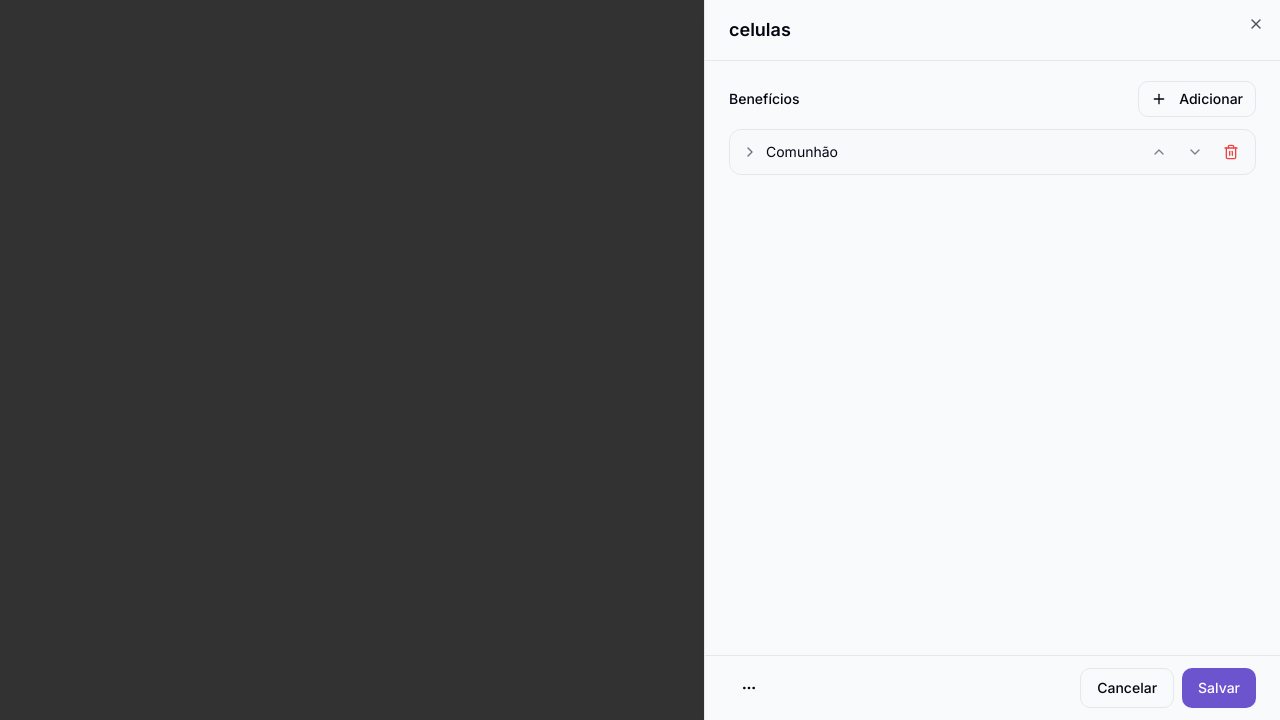
Test: SiteSectionSheet › itens de lista começam recolhidos e abrem ao clicar no título
This screenshot has width=1280, height=720.
expect the field labelled "Título" is not shown: met
Click the button "Comunhão": x=802, y=152 [738,138,1139,166]
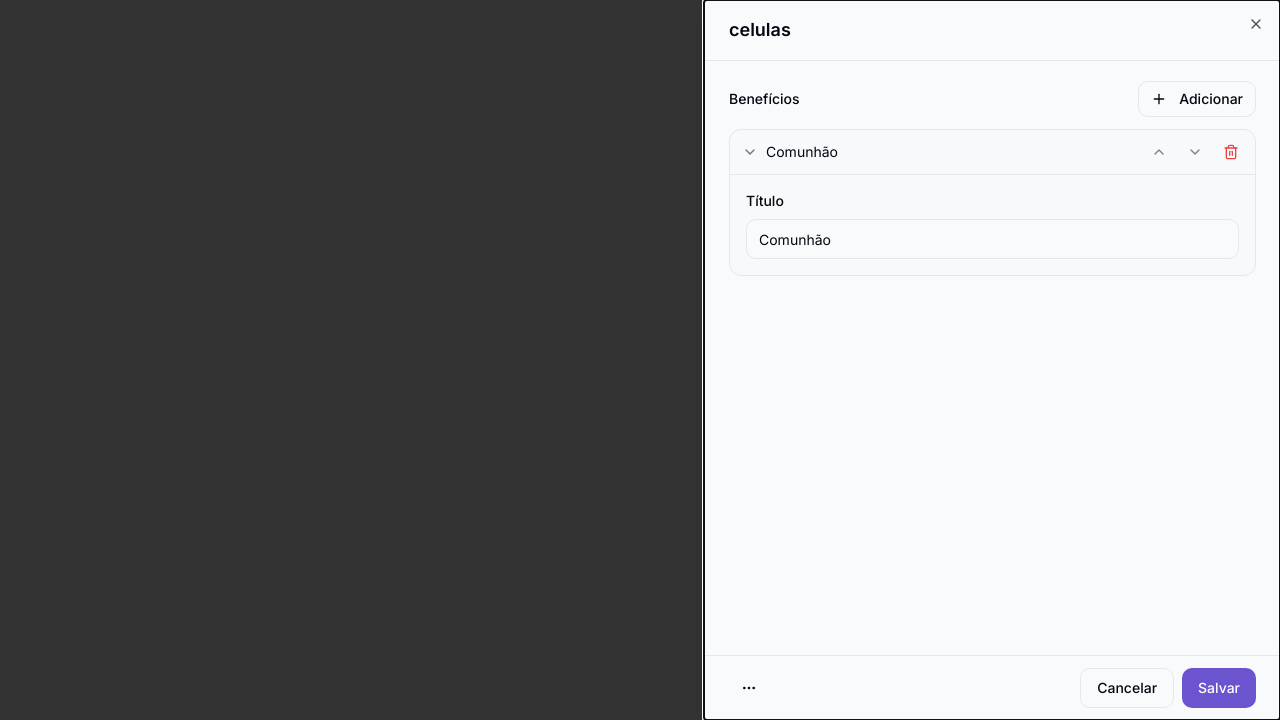
expect the field labelled "Título" holds "Comunhão": met, box [746,219,1239,259]
